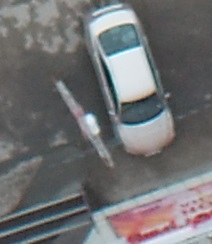opora: (55, 79, 116, 168)
